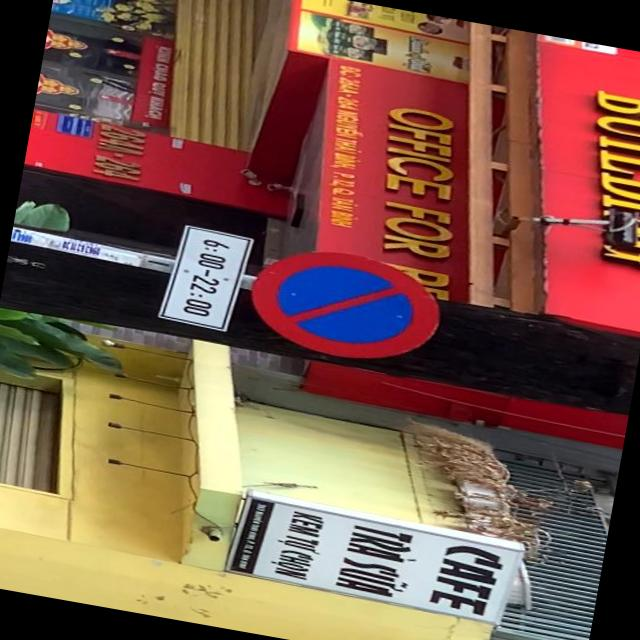P-131a: (242, 237, 447, 369)
